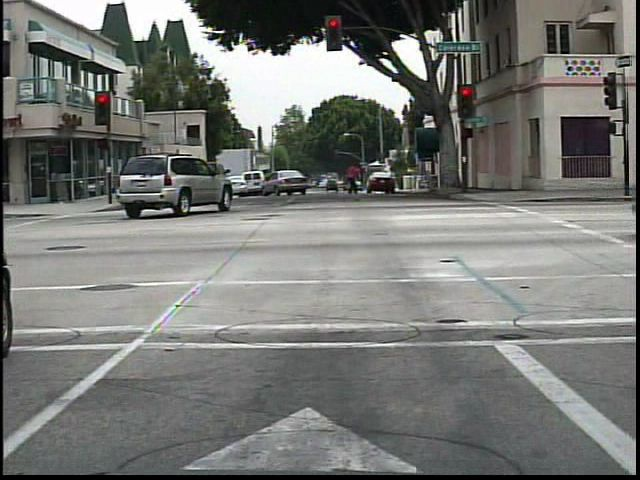person: (338, 156, 366, 202)
